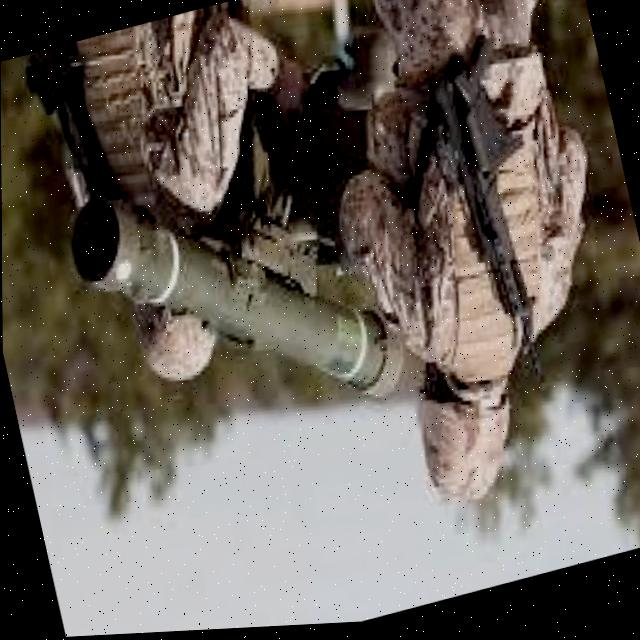rocket: (30, 118, 443, 485)
